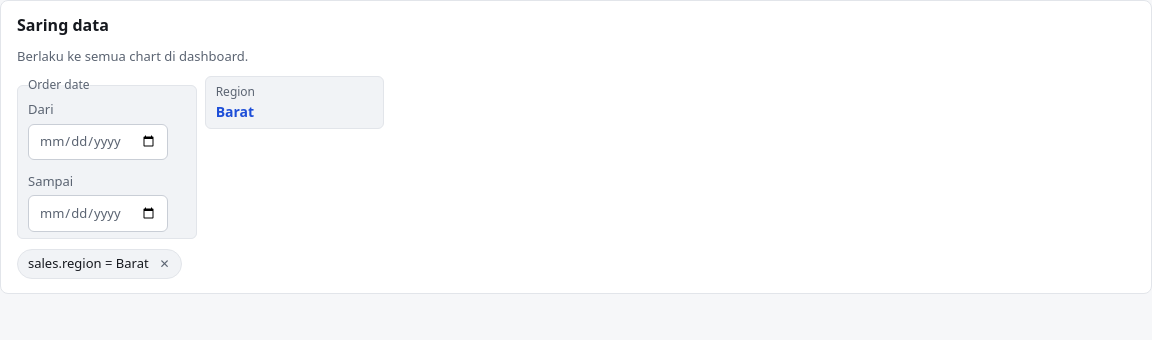
Scenario: GlobalFilterPanel › menampilkan pesan error tanpa mengubah state saat command gagal
Click the button named "Hapus filter sales.region = Barat" at (165, 264), box x1=153 y1=252 x2=177 y2=276
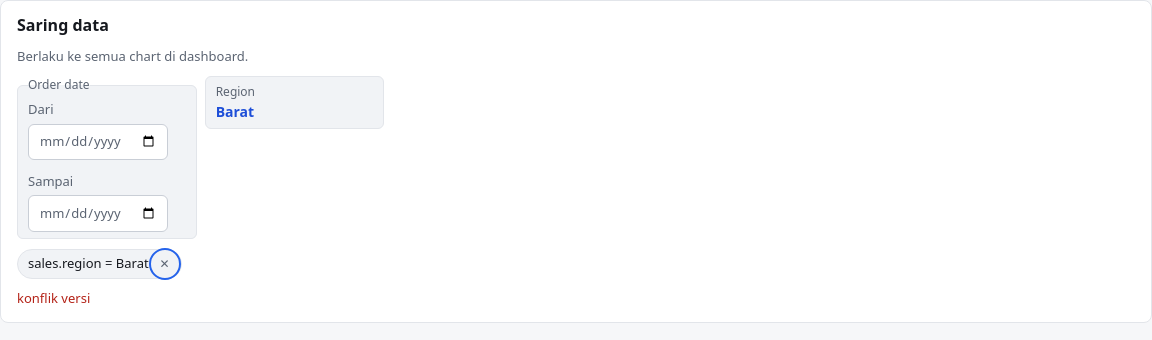
Expected: the message reads "konflik versi", x1=17 y1=289 x2=90 y2=307
